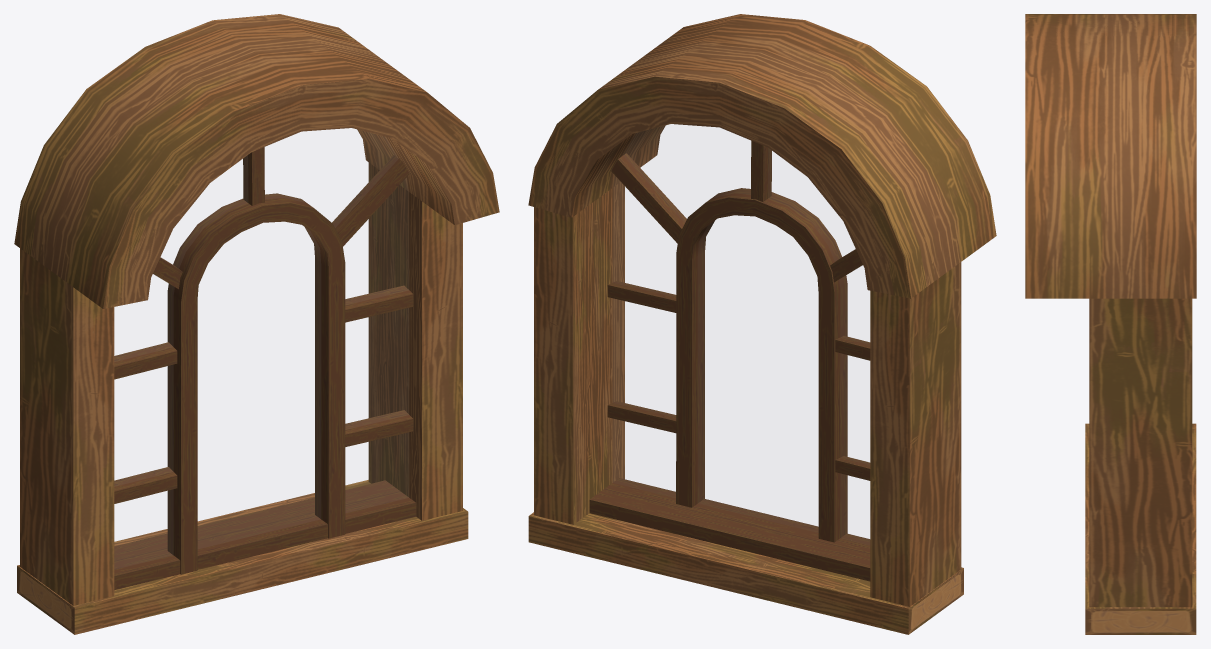
The model's file is Window_Wide_Round1.obj.
3 renders of one model, left to right at view 1: azimuth 30°, elevation 25°; view 2: azimuth 150°, elevation 25°; view 3: azimuth 270°, elevation 25°, orthographic. The views are drawn at different scales.
Parts seen in each view (by area): view 1: Window_Wide_Round1; view 2: Window_Wide_Round1; view 3: Window_Wide_Round1.
Boxes of the visible parts, x1,y1,x2,y2 form: Window_Wide_Round1: (14,14,499,634); Window_Wide_Round1: (528,14,996,634); Window_Wide_Round1: (1025,14,1196,634).
Size of the model in its own units: 1.36 by 1.73 by 0.5296.
